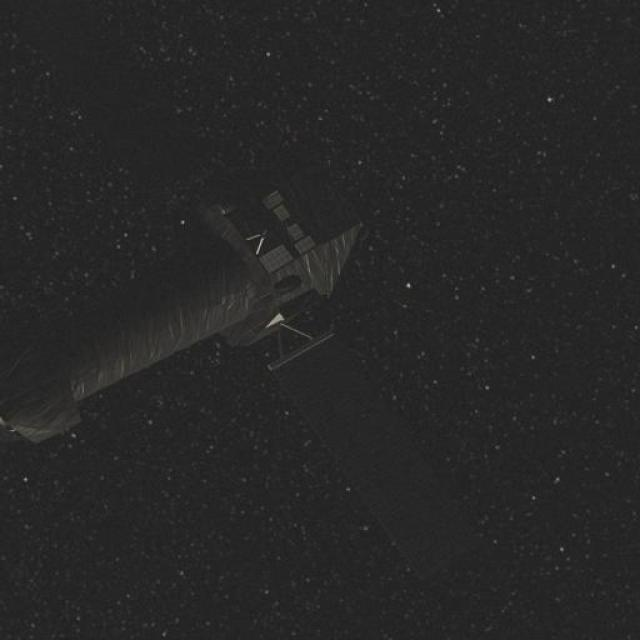xmm_newton: (0, 142, 406, 442)
